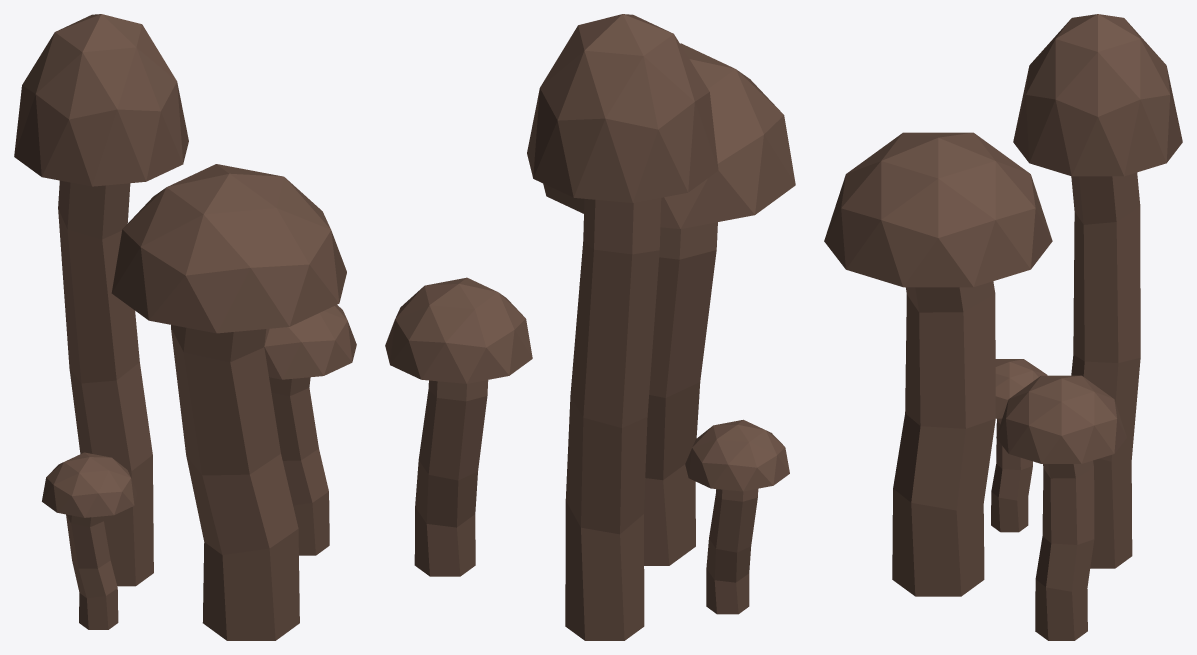
File: brownMushroomGroup.fbx
3 views of the same model, side by side, from view 1: azimuth 30°, elevation 25°; view 2: azimuth 150°, elevation 25°; view 3: azimuth 270°, elevation 25° (orthographic). The views are drawn at different scales.
Visible parts, largest first — view 1: Cylinder; view 2: Cylinder; view 3: Cylinder.
Boxes of the visible parts, bbox=[...] form: Cylinder: bbox=[14, 14, 356, 640]; Cylinder: bbox=[385, 14, 795, 640]; Cylinder: bbox=[824, 14, 1182, 640].
Bounding box in the file's own units: 45.47 × 75.56 × 45.91.
